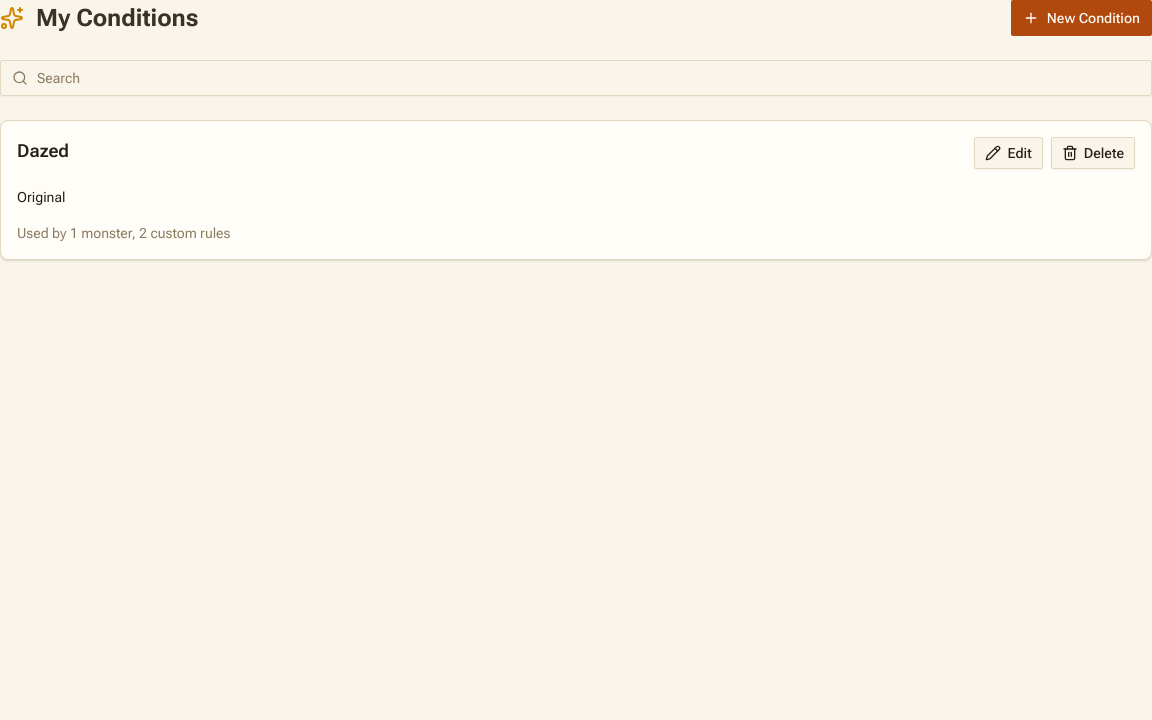
Test case: ConditionsLibrary › focuses Description without opening the tooltip for Edit Dazed
Click the button with aria-label "Edit Dazed" at (1009, 153), box top-left (974, 137), bottom-right (1043, 169)
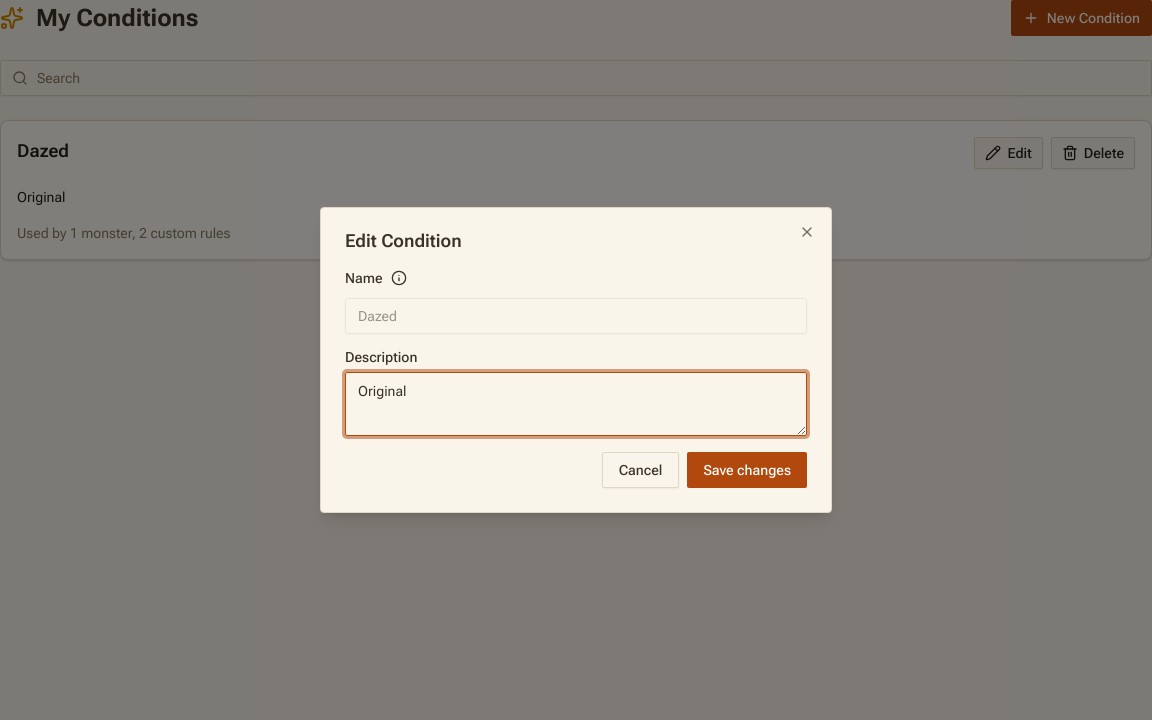
Focus the button named "About condition names" at (399, 278), box top-left (387, 266), bottom-right (411, 290)
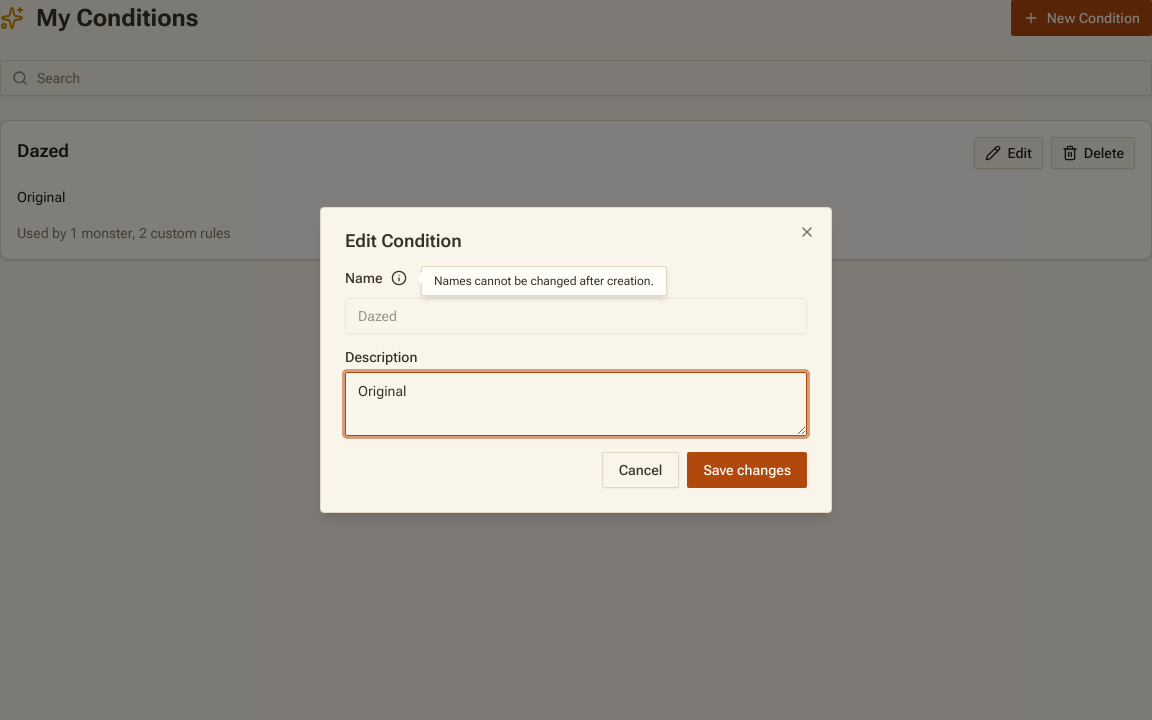
Expected: the tooltip reads "Names cannot be changed after creation.", top-left (434, 274), bottom-right (654, 288)
